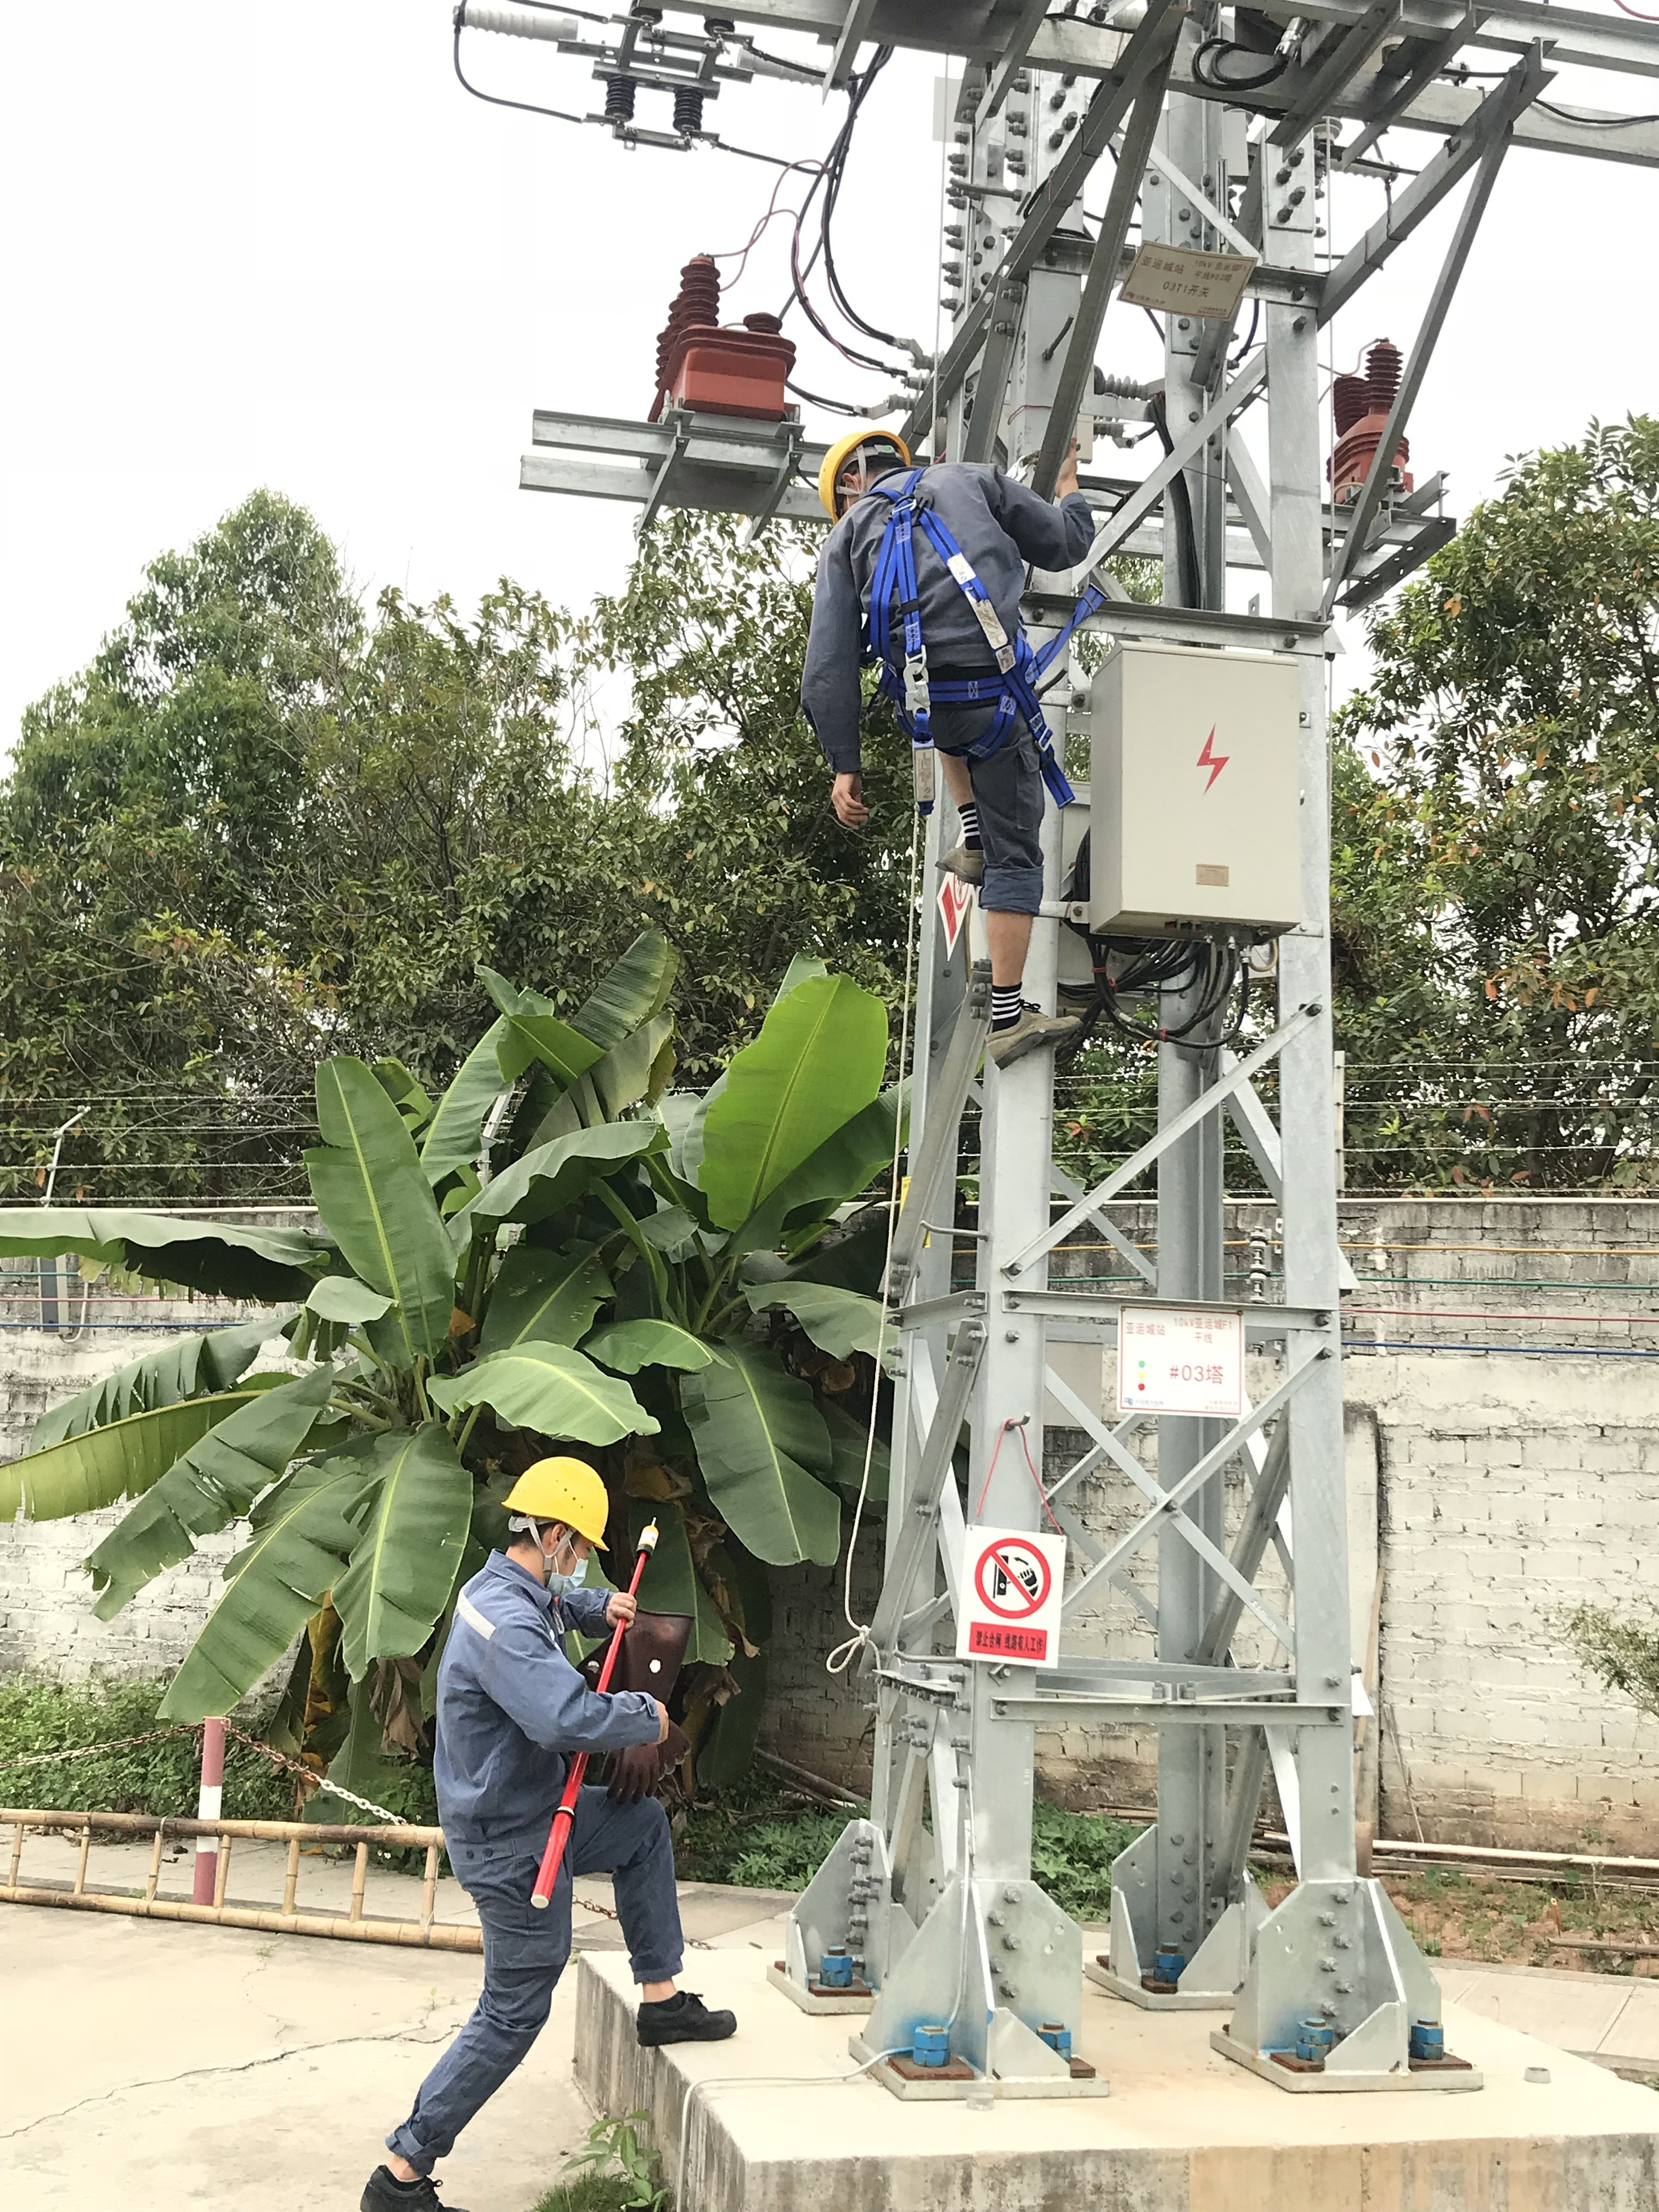downsuit: (399, 1792, 687, 2172), (903, 704, 1049, 920)
upsuit: (796, 462, 1096, 683), (427, 1550, 660, 1787)
wrongbottom: (978, 860, 1040, 1001), (938, 744, 974, 817)
